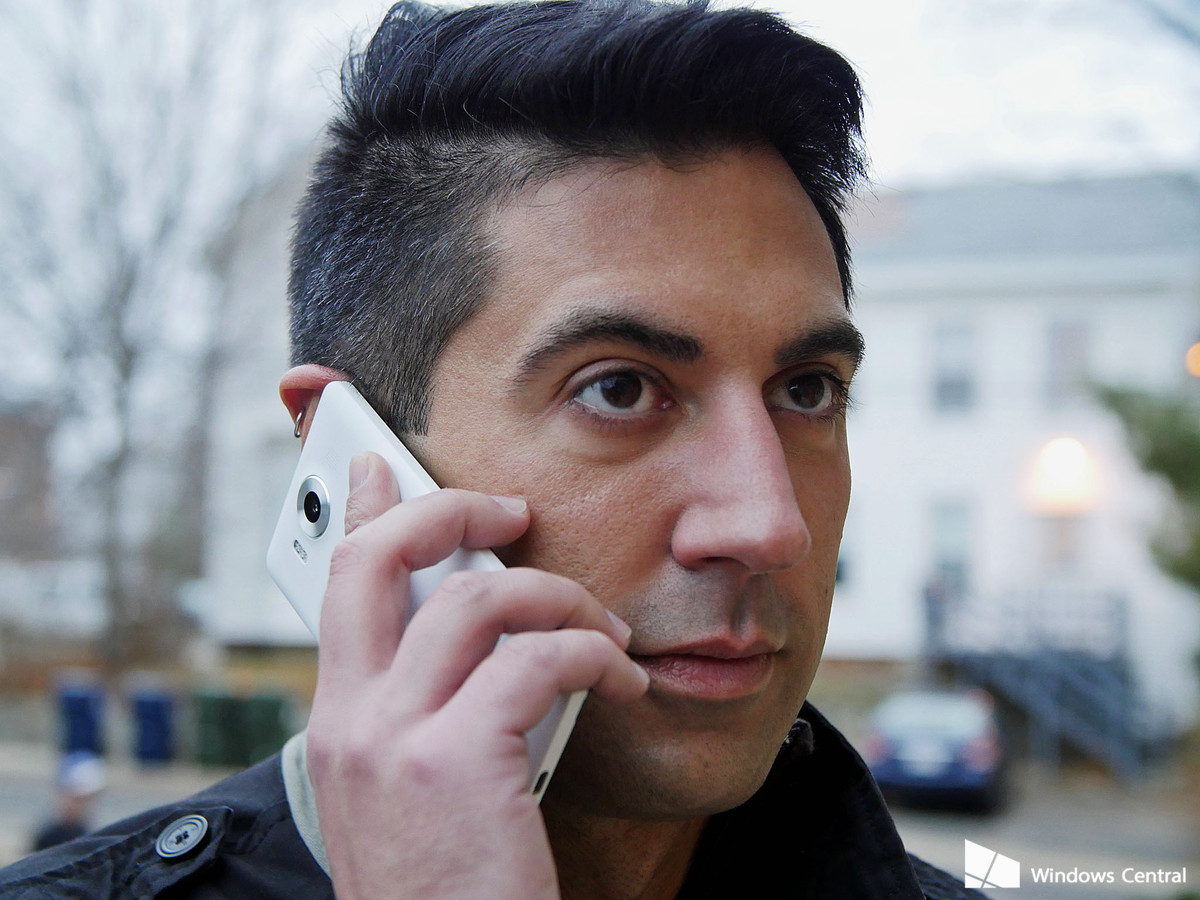smartphone: (263, 380, 590, 813)
